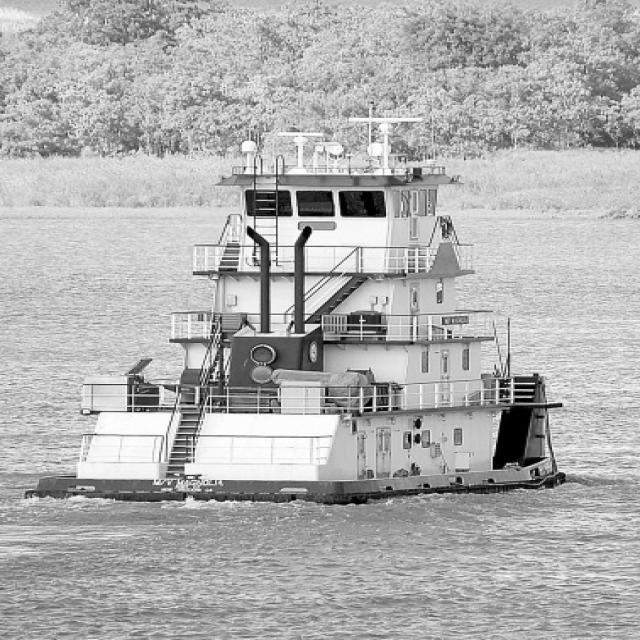tugboat: (21, 101, 577, 518)
